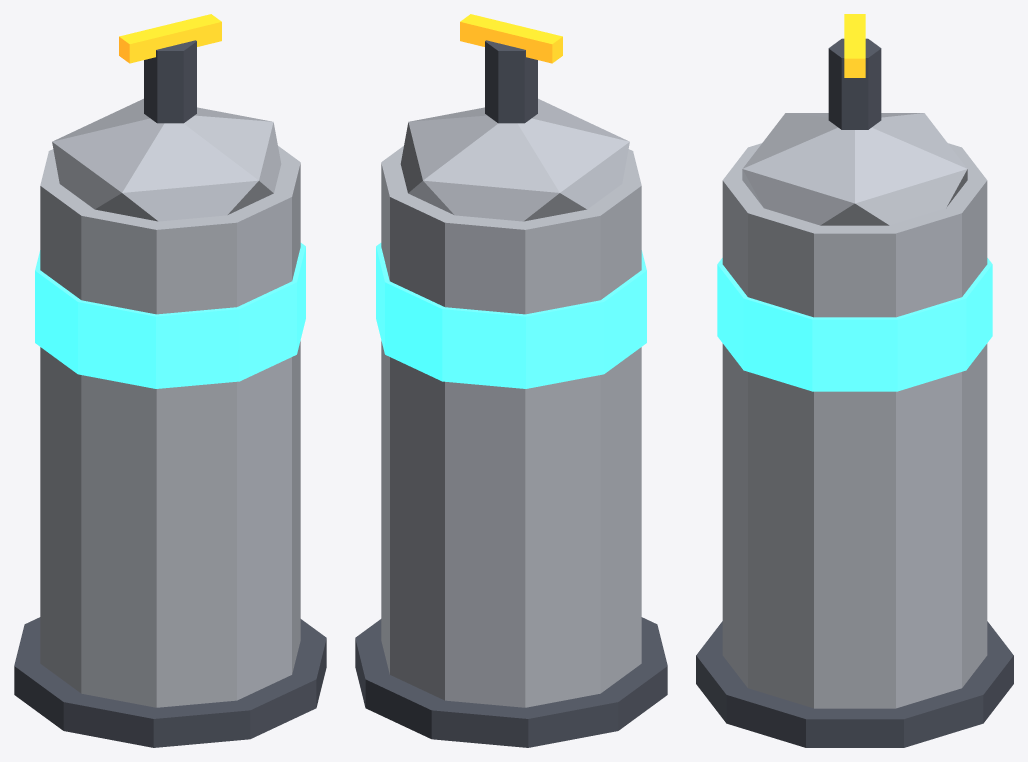
File: stationpack-oxygen-tank.glb
3 views of the same model, side by side, from view 1: azimuth 30°, elevation 25°; view 2: azimuth 150°, elevation 25°; view 3: azimuth 270°, elevation 25° (orthographic).
Visible parts, largest first — view 1: oxygen_tank; view 2: oxygen_tank; view 3: oxygen_tank.
Boxes of the visible parts, x1,y1,x2,y2 form: oxygen_tank: (14, 14, 326, 747); oxygen_tank: (355, 14, 667, 747); oxygen_tank: (696, 14, 1013, 747).
Size of the model in its own units: 0.5706 by 1.35 by 0.6.
